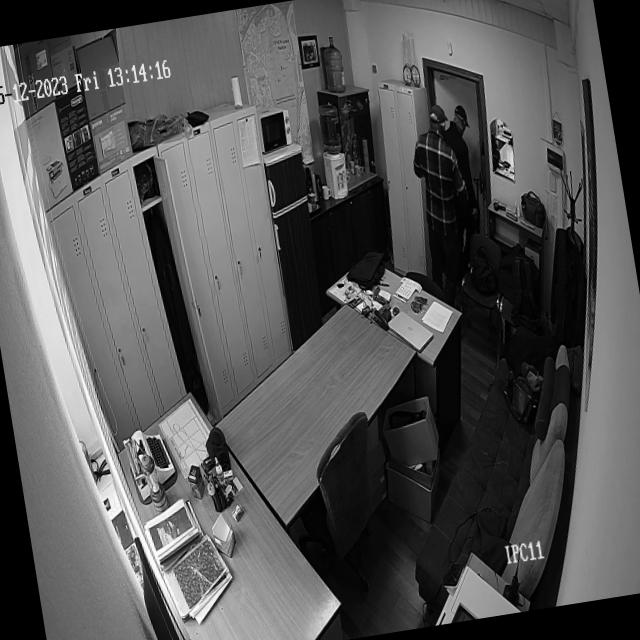gun: (488, 194, 508, 216)
person: (410, 102, 476, 273), (446, 100, 476, 171)
